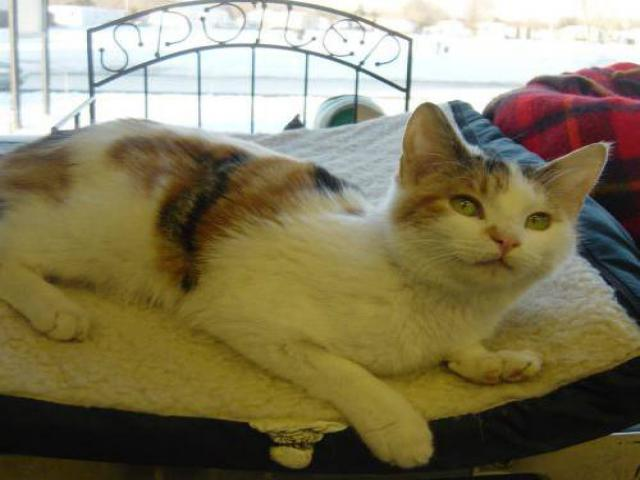cat: (10, 90, 627, 469)
